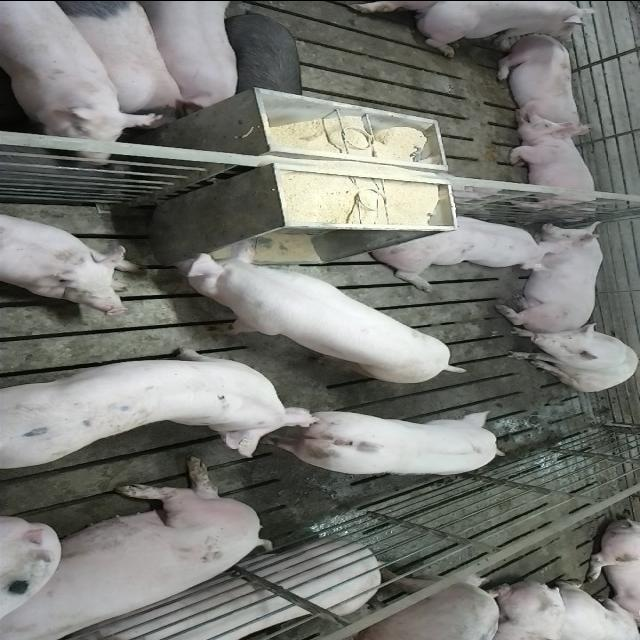Lateral_lying: (4, 454, 278, 636), (62, 538, 380, 640)
Sitting: (502, 322, 636, 391)
Standing: (166, 238, 474, 384), (4, 344, 327, 466), (1, 1, 154, 156), (52, 2, 198, 124), (264, 410, 509, 480), (286, 568, 499, 640), (127, 0, 245, 110), (218, 6, 306, 108)
Sternal_lying: (0, 205, 137, 308), (367, 210, 555, 284), (502, 221, 612, 327), (413, 3, 603, 55), (504, 117, 603, 215), (491, 32, 588, 131)
